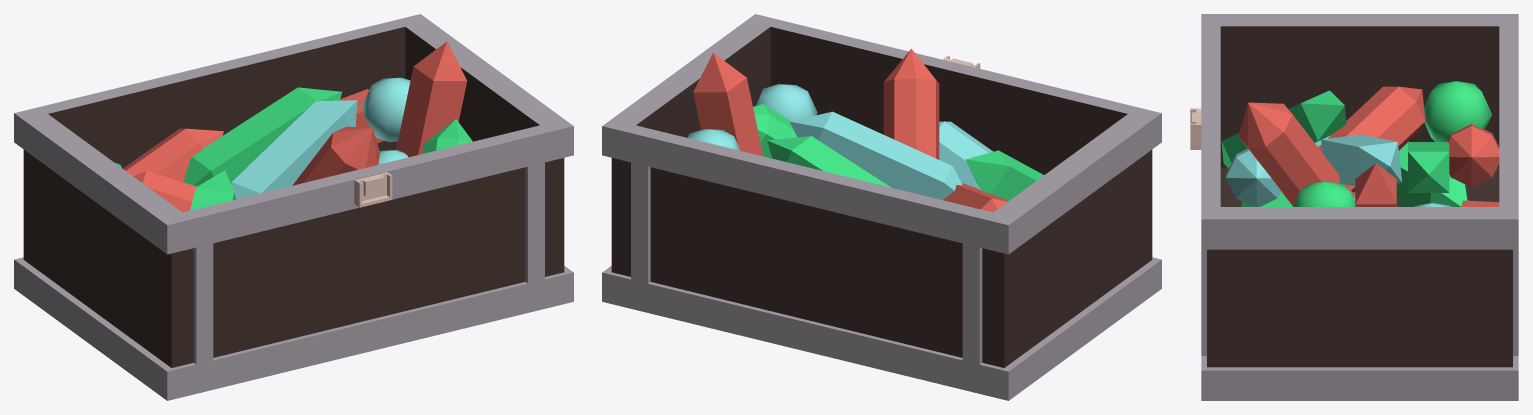
File: TreasureChestwithCrystals.gltf
The picture shows the model from 3 angles, left to right: view 1: azimuth 30°, elevation 25°; view 2: azimuth 150°, elevation 25°; view 3: azimuth 270°, elevation 25°; orthographic projection. The views are drawn at different scales.
Visible parts, largest first — view 1: TreasuerChestBase, CrystalHaufen; view 2: TreasuerChestBase, CrystalHaufen; view 3: TreasuerChestBase, CrystalHaufen.
Boxes of the visible parts, x1,y1,x2,y2 form: TreasuerChestBase: (14,14,573,400); CrystalHaufen: (115,41,472,212); TreasuerChestBase: (602,14,1161,400); CrystalHaufen: (687,48,1043,212); TreasuerChestBase: (1190,14,1518,400); CrystalHaufen: (1221,81,1499,206).
Size of the model in its own units: 0.5302 by 0.2608 by 0.3582.
